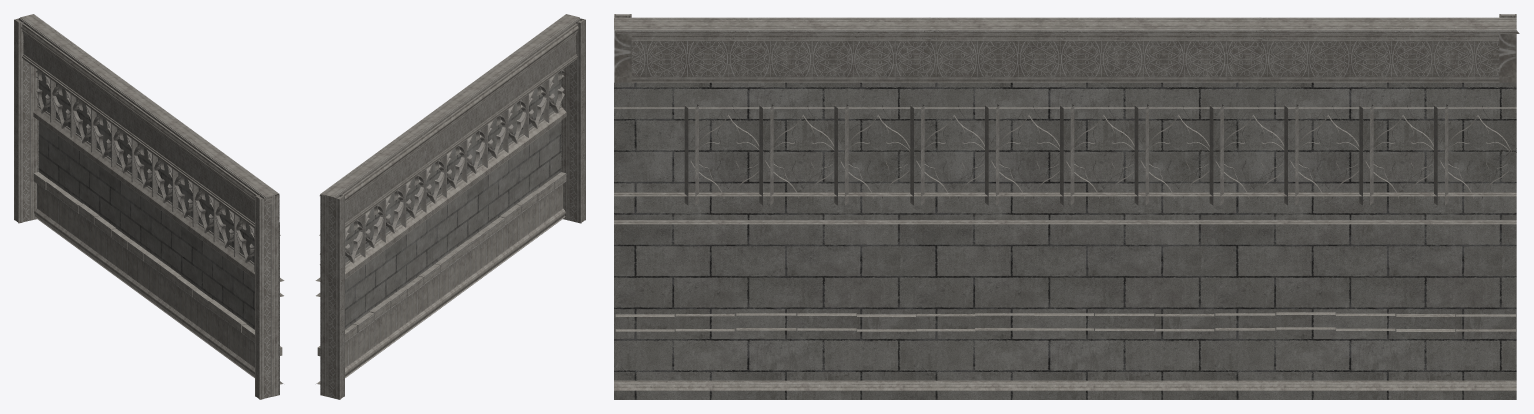
File: SM_InteriorWall_A_03.fbx
The picture shows the model from 3 angles, left to right: view 1: azimuth 30°, elevation 25°; view 2: azimuth 150°, elevation 25°; view 3: azimuth 270°, elevation 25°; orthographic projection. The views are drawn at different scales.
Parts seen in each view (by area): view 1: SM_InteriorWall_A_03_LOD0; view 2: SM_InteriorWall_A_03_LOD0; view 3: SM_InteriorWall_A_03_LOD0.
Boxes of the visible parts, x1,y1,x2,y2 form: SM_InteriorWall_A_03_LOD0: [14, 14, 284, 399]; SM_InteriorWall_A_03_LOD0: [315, 14, 585, 399]; SM_InteriorWall_A_03_LOD0: [614, 14, 1519, 399].
Size of the model in its own units: 61.19 by 1004 by 452.
